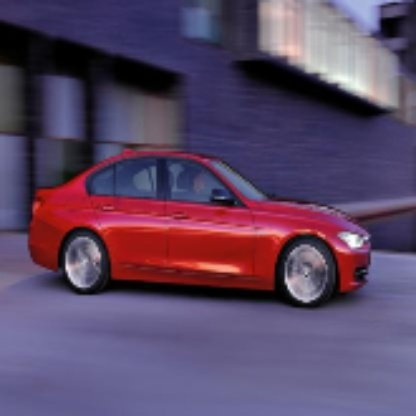Vehicle: (29, 148, 371, 310)
